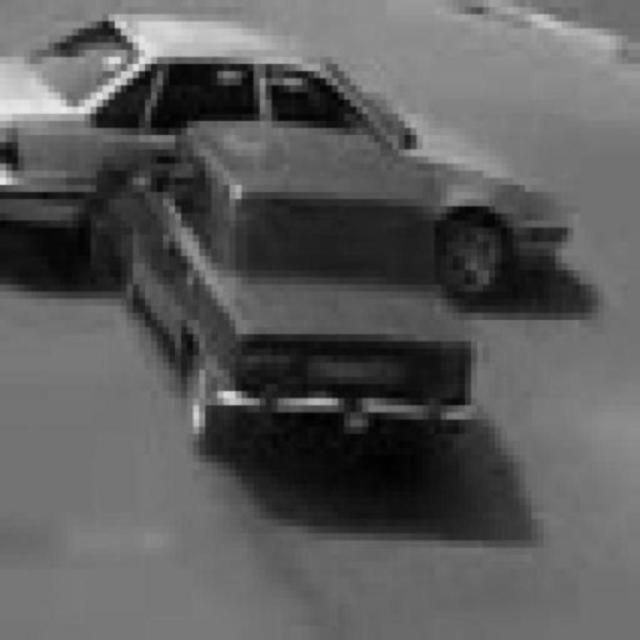accident: (2, 11, 578, 443)
